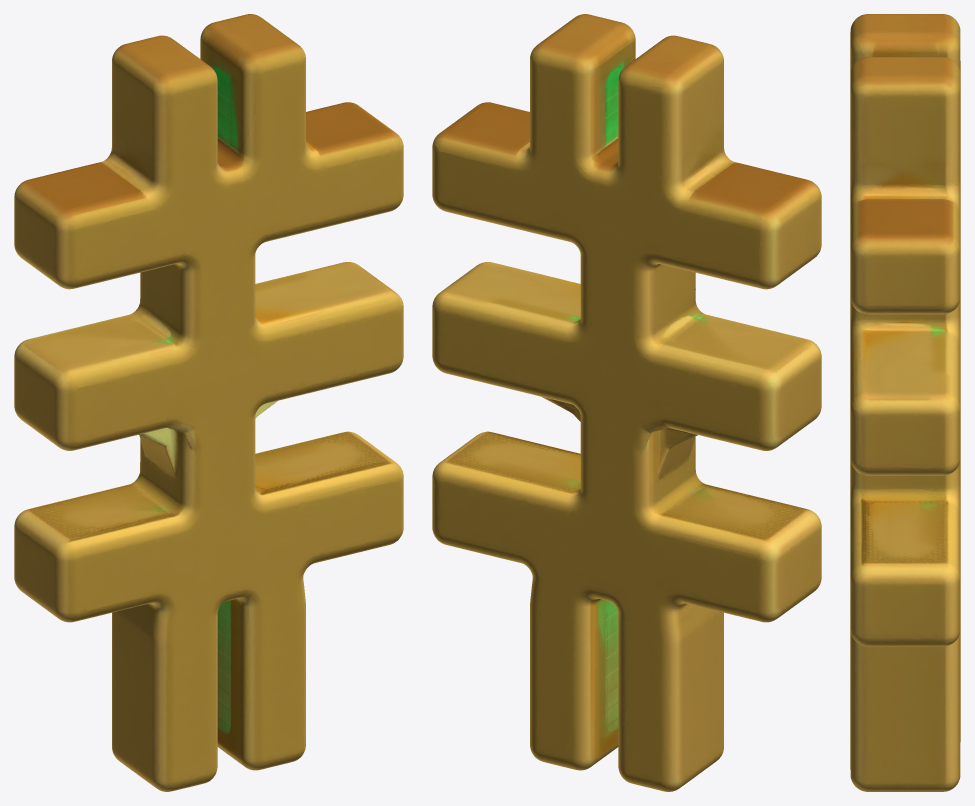
File: sats-symbol.glb
3 renders of one model, left to right at view 1: azimuth 30°, elevation 25°; view 2: azimuth 150°, elevation 25°; view 3: azimuth 270°, elevation 25°, orthographic.
Parts seen in each view (by area): view 1: mesh_node; view 2: mesh_node; view 3: mesh_node.
Boxes of the visible parts, x1=… form: mesh_node: x1=14, y1=14, x2=403, y2=791; mesh_node: x1=432, y1=14, x2=821, y2=791; mesh_node: x1=850, y1=14, x2=960, y2=791.
Size of the model in its own units: 0.9615 by 1.9 by 0.2647.
Materials: 1 (1 with a texture image).
